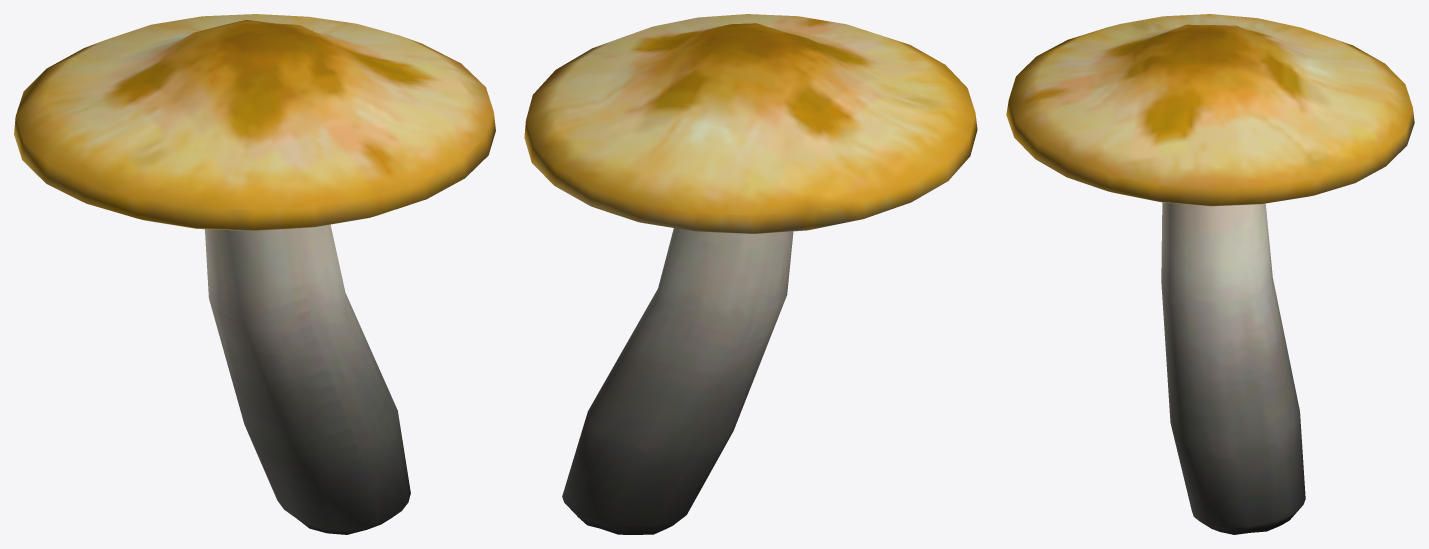
File: INST_TROLLHOLE_SHROOMC4.fbx
3 renders of one model, left to right at view 1: azimuth 30°, elevation 25°; view 2: azimuth 150°, elevation 25°; view 3: azimuth 270°, elevation 25°, orthographic. The views are drawn at different scales.
Parts seen in each view (by area): view 1: INST_TROLLHOLE_SHROOMC4; view 2: INST_TROLLHOLE_SHROOMC4; view 3: INST_TROLLHOLE_SHROOMC4.
Part boxes in pixels (box(x1,y1,x2,y2)): INST_TROLLHOLE_SHROOMC4: box(14, 14, 495, 534); INST_TROLLHOLE_SHROOMC4: box(524, 14, 977, 534); INST_TROLLHOLE_SHROOMC4: box(1006, 14, 1414, 534).
Bounding box in the file's own units: 32558 × 39074 × 32549.
1 material, 1 textured.
